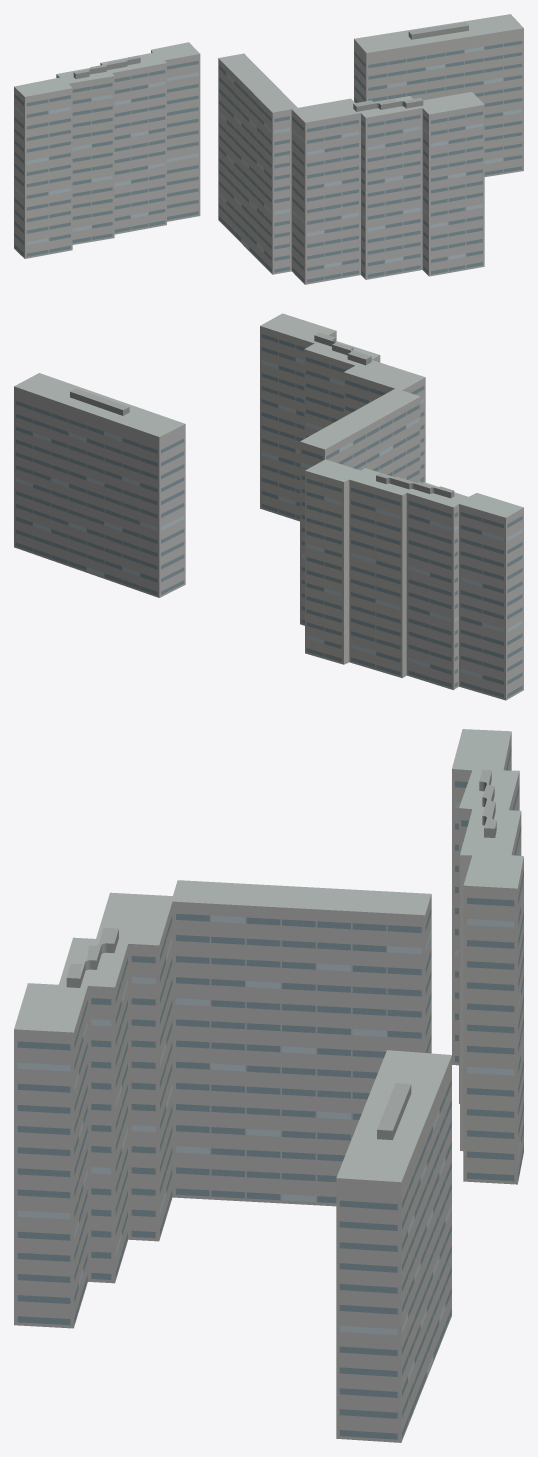
File: apt-a15209203.glb
The picture shows the model from 3 angles, top to bottom: view 1: azimuth 30°, elevation 25°; view 2: azimuth 150°, elevation 25°; view 3: azimuth 270°, elevation 25°; orthographic projection. The views are drawn at different scales.
Visible parts, largest first — view 1: apt-a15209203; view 2: apt-a15209203; view 3: apt-a15209203.
Part boxes in pixels (x1,y1,x2,y2): apt-a15209203: [14, 14, 523, 284]; apt-a15209203: [14, 313, 523, 700]; apt-a15209203: [14, 729, 523, 1442].
Size of the model in its own units: 229 by 78 by 118.
